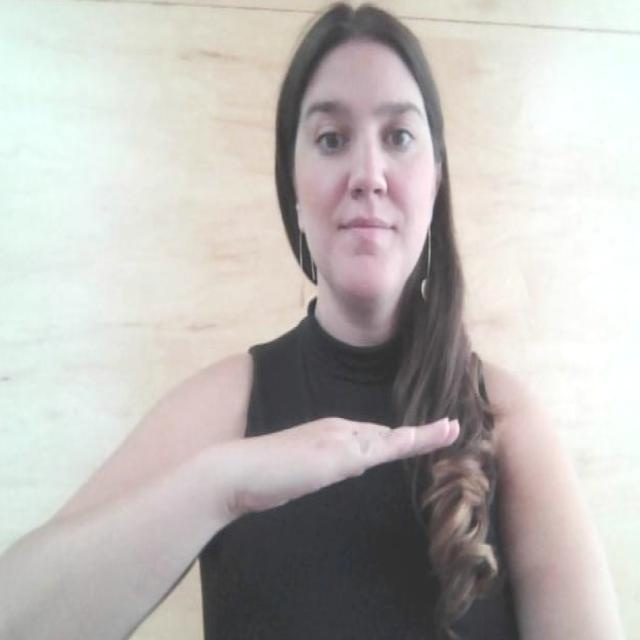Paper: (207, 403, 458, 523)
